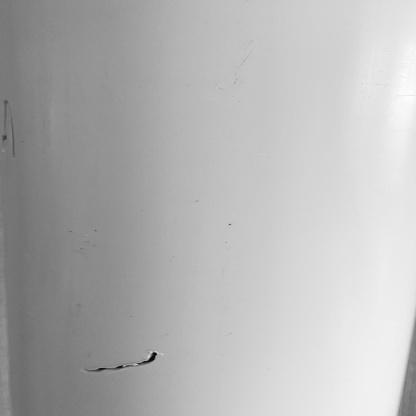fengxi: (84, 350, 158, 378), (1, 96, 23, 155)
